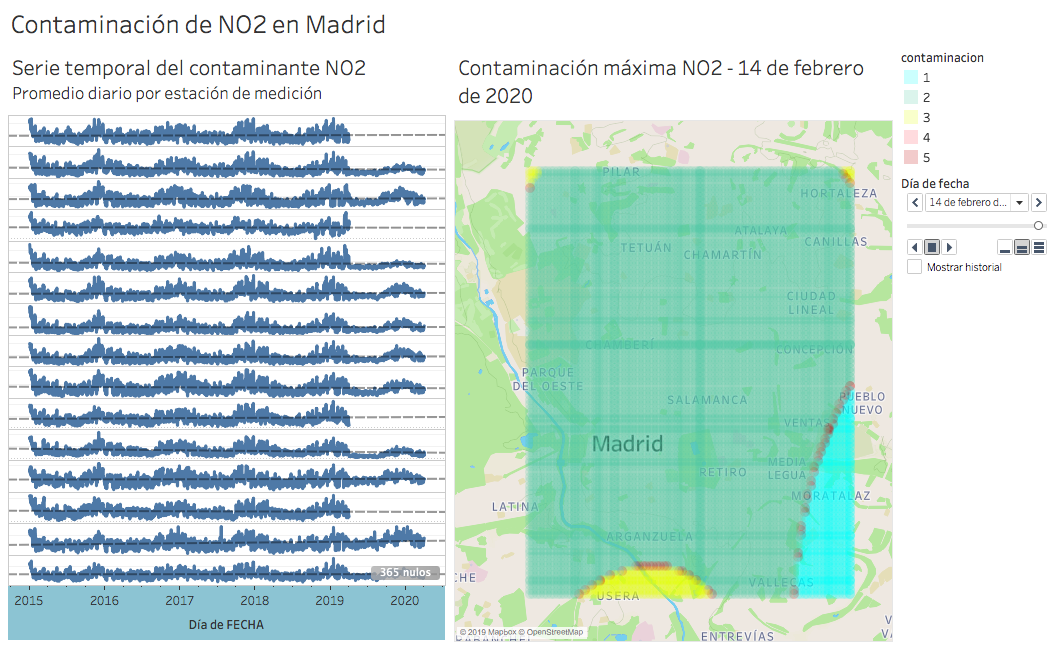

The page's visual inventory and layout, read from the dashboard file:
{"tool":"tableau","page":{"name":"Contaminación de NO2 en Madrid","canvas":[1000,1000],"units":"permille","ordinal":0},"visuals":[{"type":"title","box":[7.5,12.1,985,63.7]},{"type":"worksheet","title":"Serie Temporal Contaminación","mark":"Automatic","rows":["Estacion11","Estacion16","Estacion18","Estacion35","Estacion36","Estacion38","Estacion39","Estacion40","Estacion47","Estacion48","Estacion49","Estacion4"],"cols":["FECHA"],"box":[7.5,75.9,417.7,912]},{"type":"worksheet","title":"Contaminación máxima NO2","mark":"Automatic","rows":["latitud"],"cols":["longitud"],"box":[425.1,75.9,417.7,912]},{"type":"legend","title":"Contaminación máxima NO2","param":"[federated.0roj6lz0gq9e561abatwy1dymriu].[sum:contaminacion:ok]","box":[842.9,75.9,149.7,191.2]},{"type":"currpage","title":"Contaminación máxima NO2","box":[842.9,267.1,149.7,166.9]}]}

Visuals, with their boxes on the dashboard's canvas, which has no fixed pixel size, in thousandths of its width and height (x1, y1, x2, y2). These are canvas units, not pixel positions in the 1060x649 screenshot, which may show the page scaled, cropped or inside an application window:
title: l=8, t=12, r=992, b=76
"Serie Temporal Contaminación" worksheet: l=8, t=76, r=425, b=988
"Contaminación máxima NO2" worksheet: l=425, t=76, r=843, b=988
"Contaminación máxima NO2" legend: l=843, t=76, r=993, b=267
"Contaminación máxima NO2" currpage: l=843, t=267, r=993, b=434
